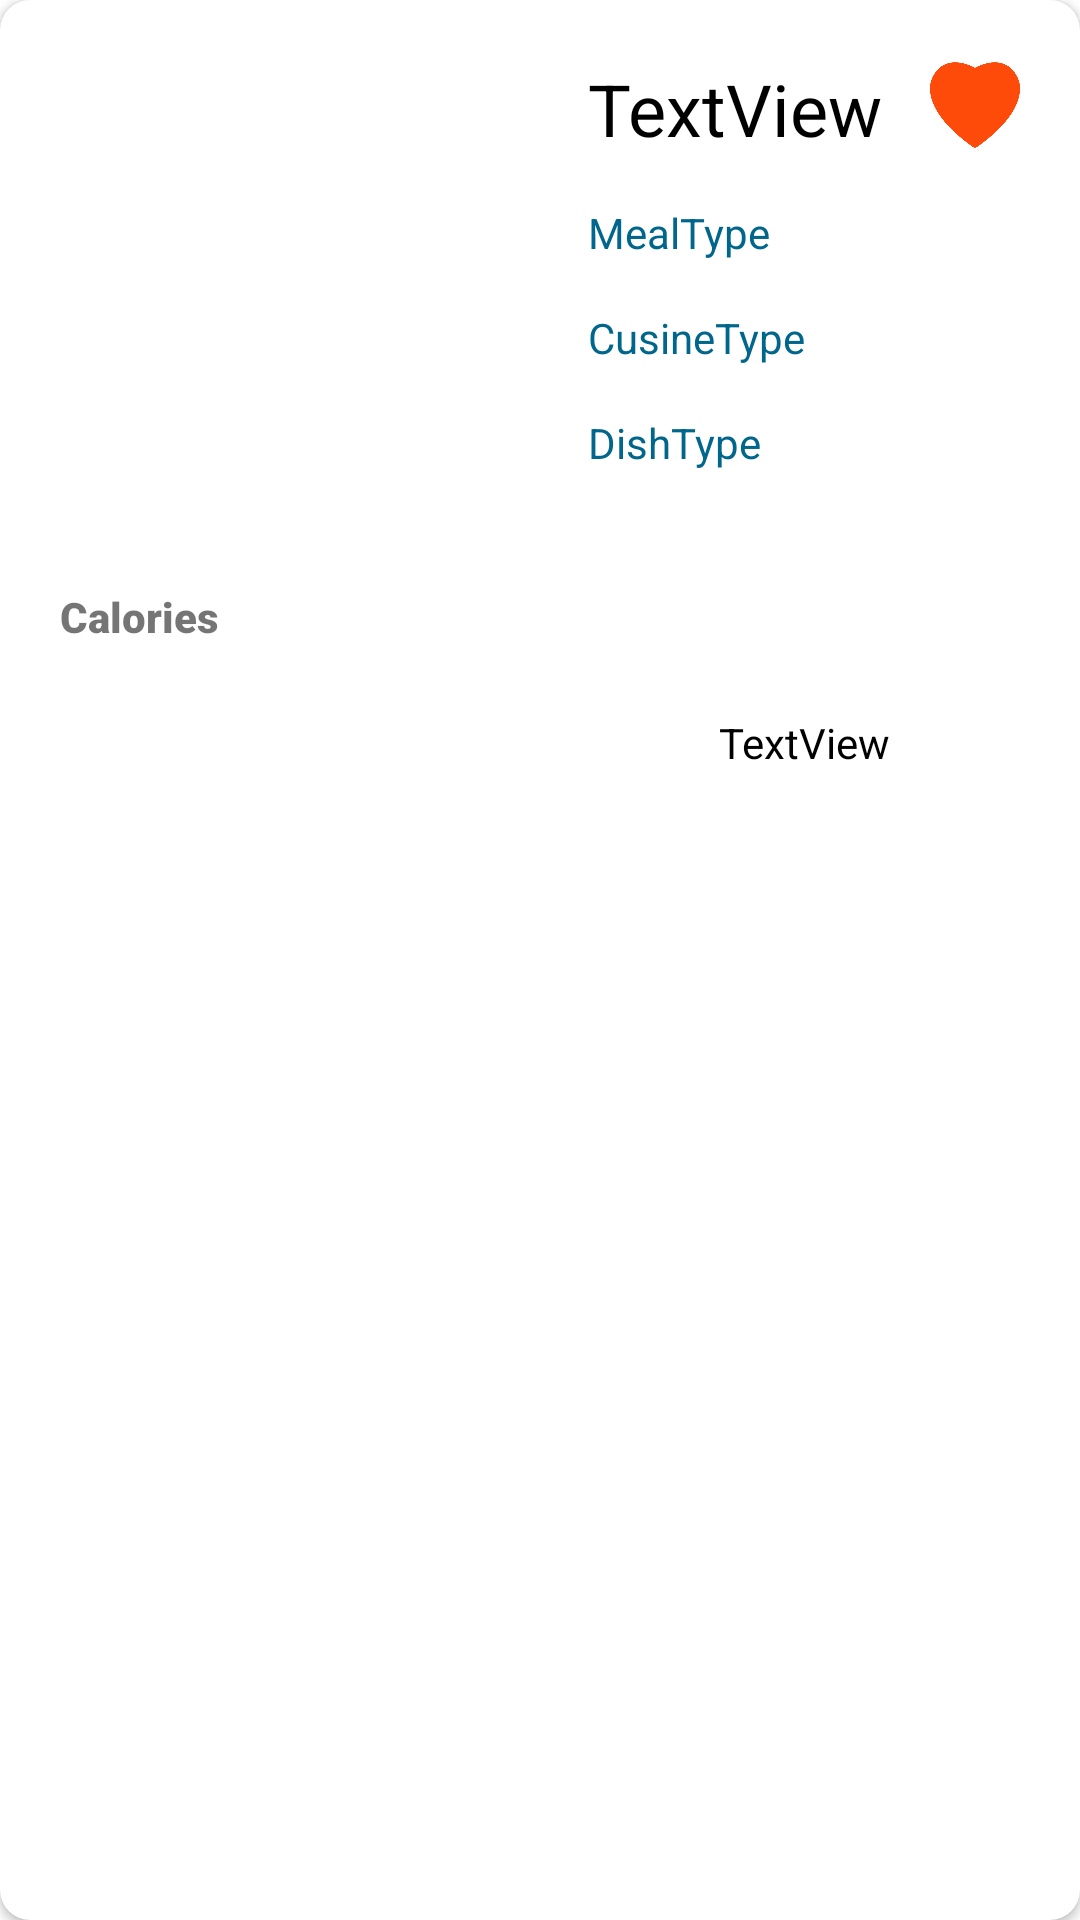

Icons on this 1080 x 1920 Android screen, each with its box as (x1, y1, x2, y2):
heart: (930, 62, 1020, 148)
